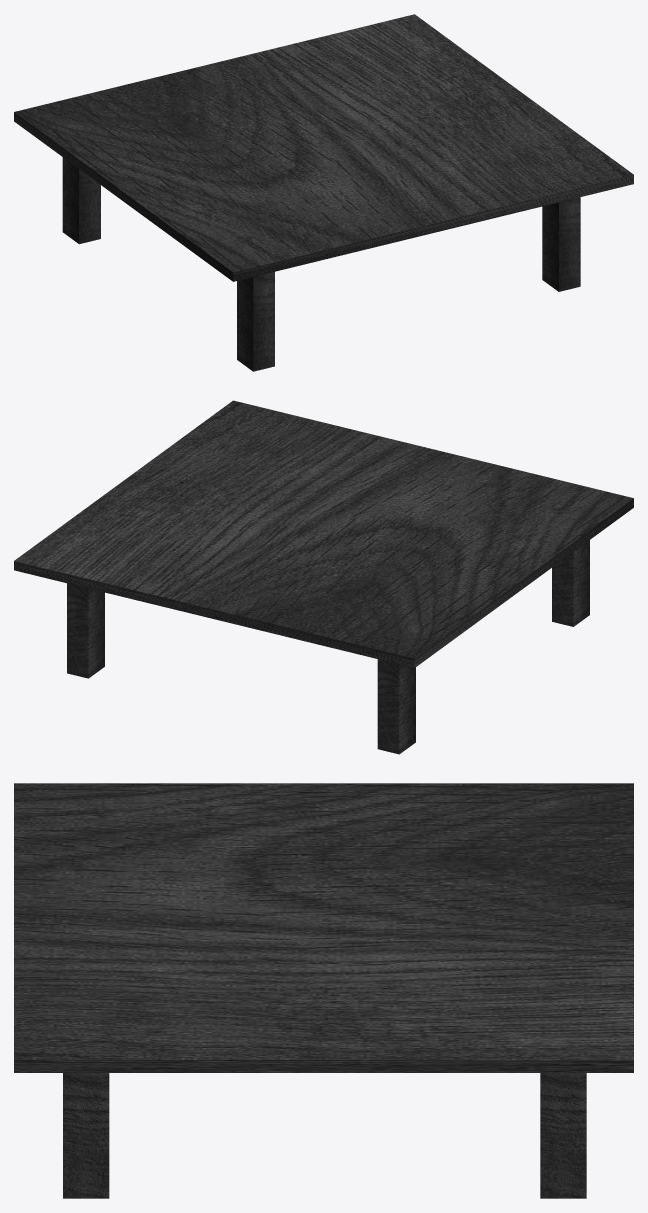
Rendered from mesa negra.obj.
3 views of the same model, one above another, from view 1: azimuth 30°, elevation 25°; view 2: azimuth 150°, elevation 25°; view 3: azimuth 270°, elevation 25° (orthographic). The views are drawn at different scales.
Visible parts, largest first — view 1: Cubo.008_Cubo.023; view 2: Cubo.008_Cubo.023; view 3: Cubo.008_Cubo.023.
Part boxes in pixels (box(x1,y1,x2,y2)): Cubo.008_Cubo.023: box(14, 14, 633, 371); Cubo.008_Cubo.023: box(14, 400, 633, 754); Cubo.008_Cubo.023: box(14, 783, 633, 1198).
Size of the model in its own units: 32.95 by 9.1 by 31.23.
Materials: 5 (5 with a texture image).
